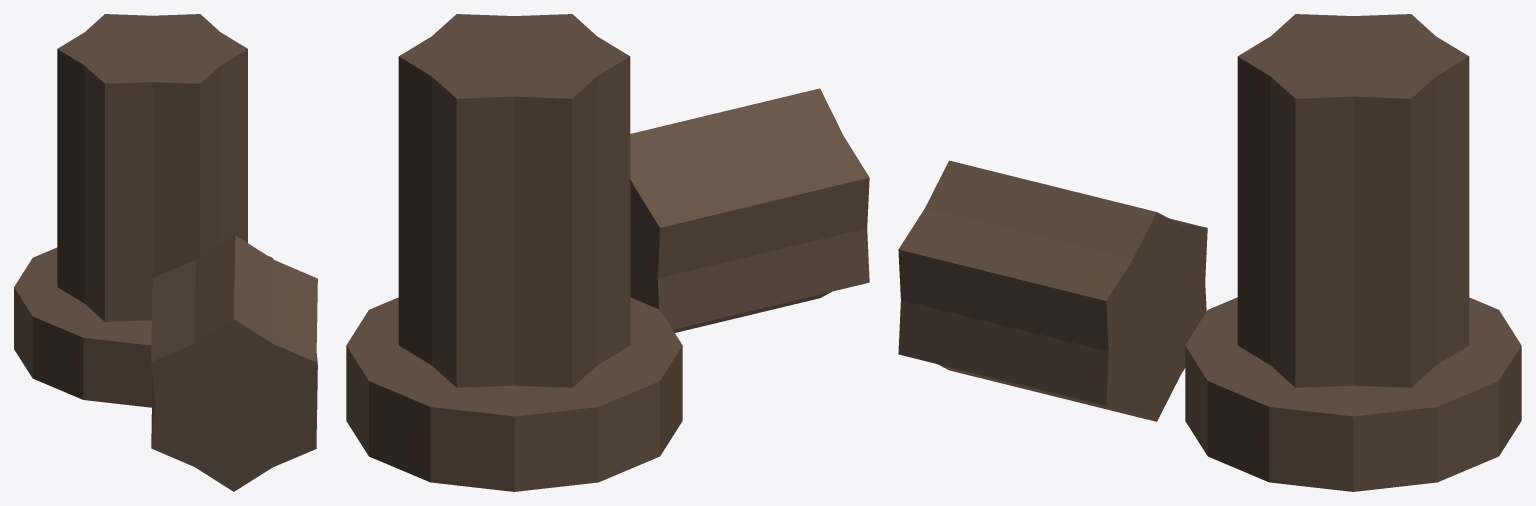
File: Column_Broken_MDL.fbx
The picture shows the model from 3 angles, left to right: view 1: azimuth 30°, elevation 25°; view 2: azimuth 150°, elevation 25°; view 3: azimuth 270°, elevation 25°; orthographic projection. The views are drawn at different scales.
Visible parts, largest first — view 1: Icosphere.003; view 2: Icosphere.003; view 3: Icosphere.003.
Part boxes in pixels (x1=…): Icosphere.003: x1=14, y1=14, x2=317, y2=491; Icosphere.003: x1=346, y1=14, x2=869, y2=491; Icosphere.003: x1=898, y1=14, x2=1521, y2=491.
Bounding box in the file's own units: 180 × 193 × 299.
